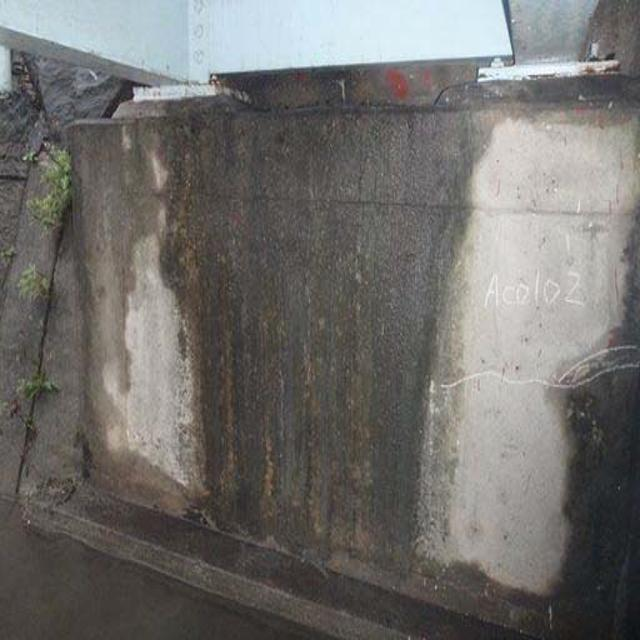leakage: (152, 87, 492, 573)
